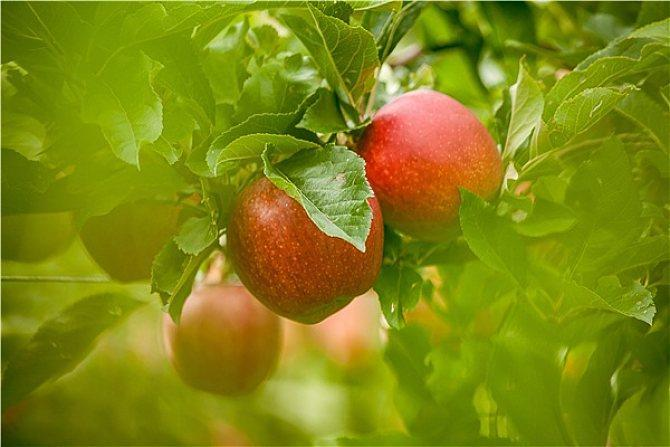apple: (224, 160, 382, 321), (350, 87, 500, 240), (161, 281, 284, 396)
